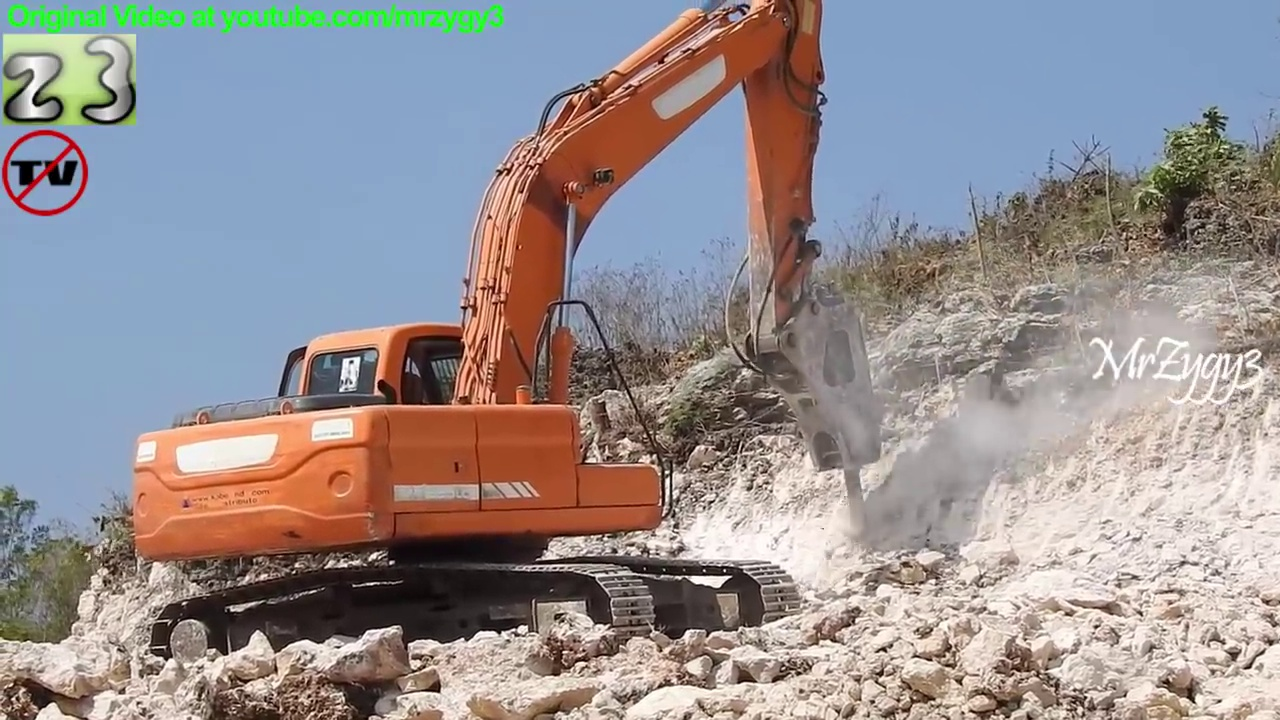excavator: (127, 1, 896, 675)
